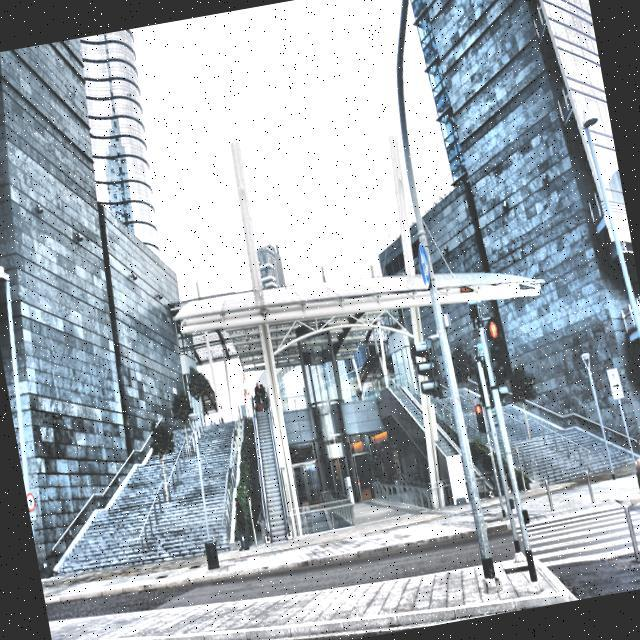red_light: (488, 319, 498, 338)
